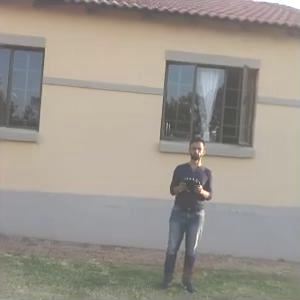follow: (156, 133, 214, 296)
